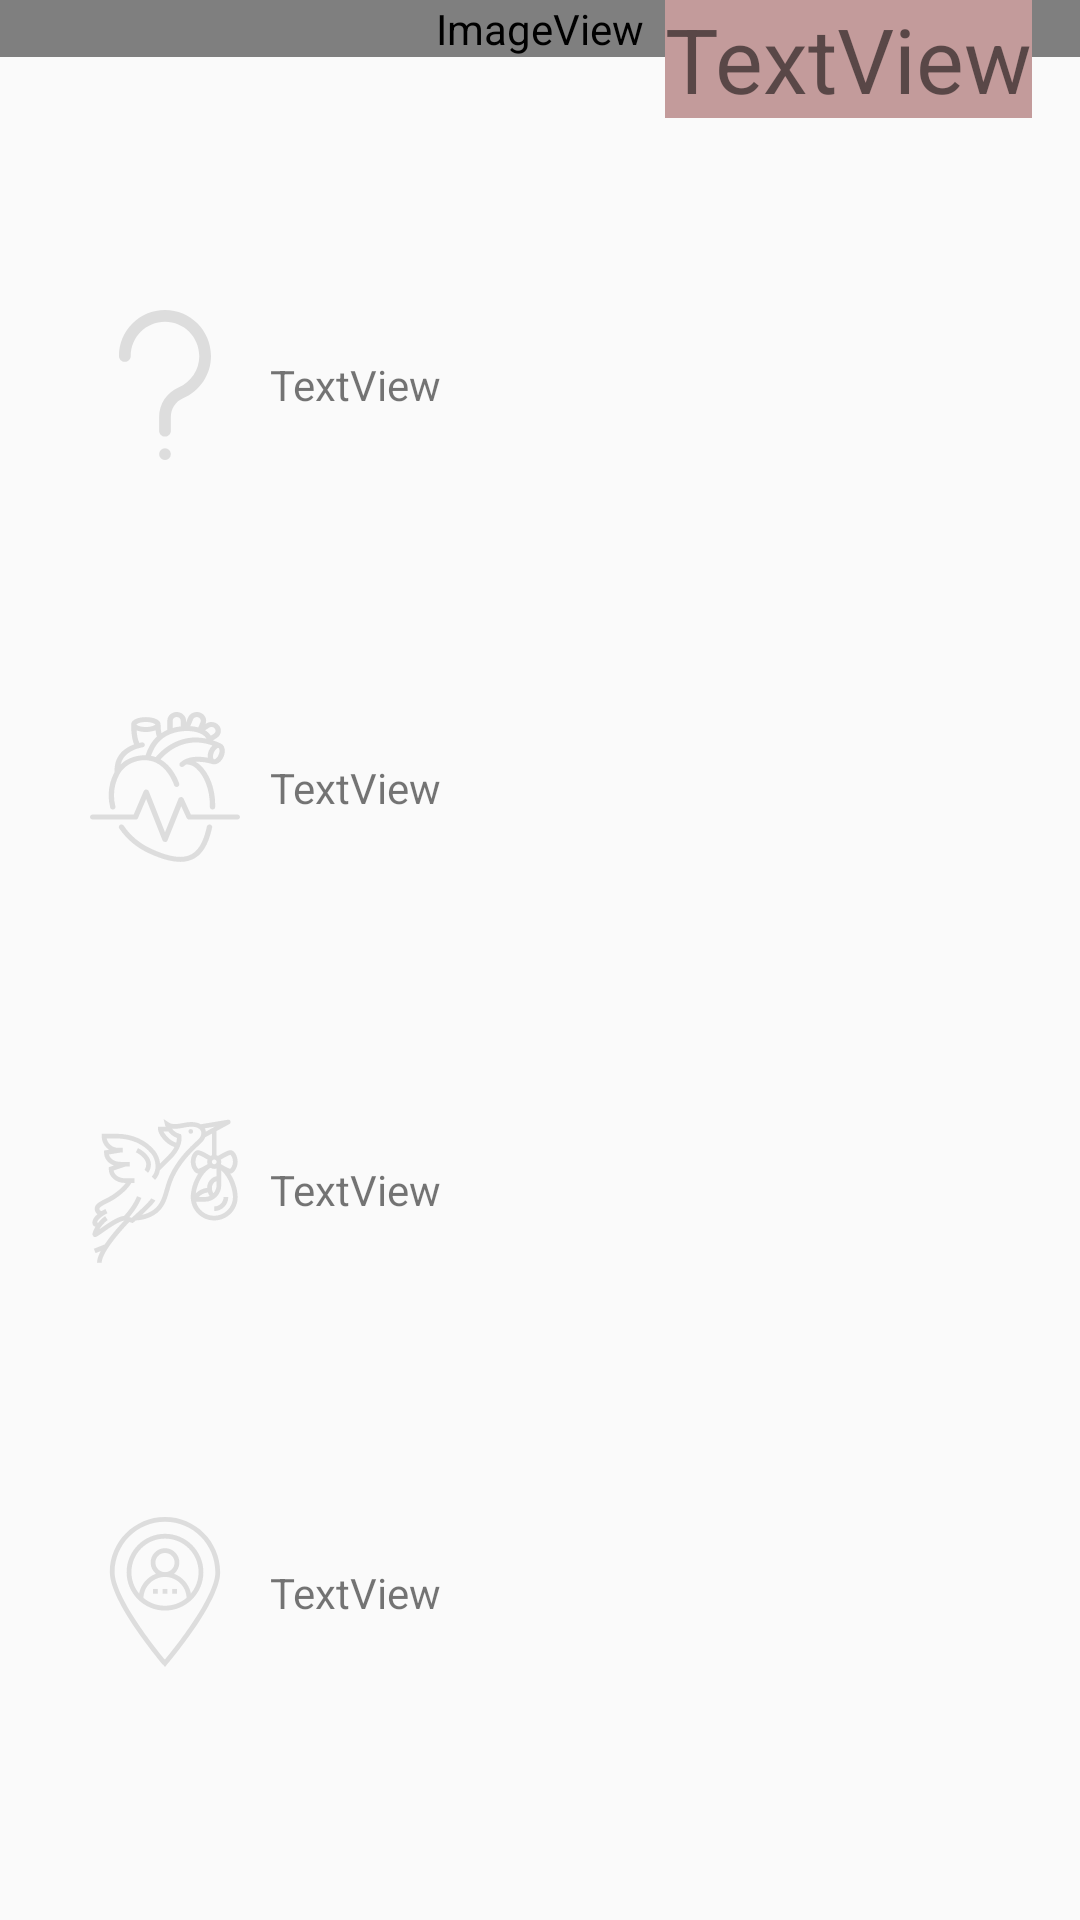

Point at icon controls on the screen. Image size 1080 x 1920, points as (x,y).
bird stork: (165,1191)
heart: (165,787)
location: (165,1591)
question: (165,385)
